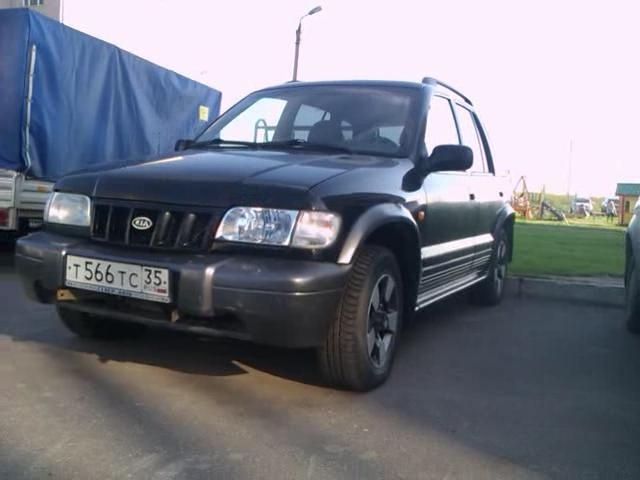car license plate: (60, 250, 176, 309)
